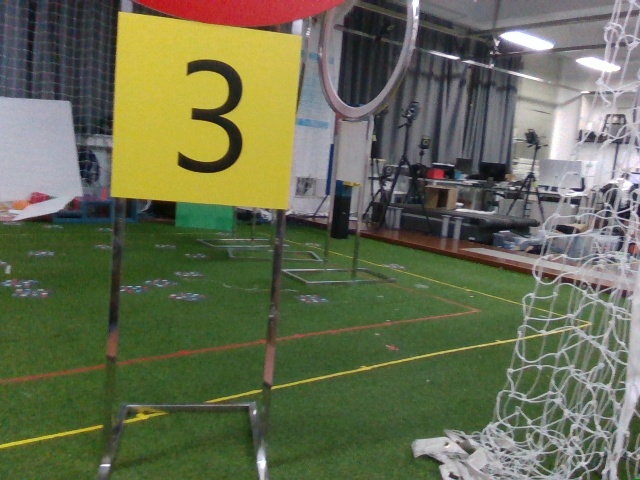target: (121, 36, 284, 198)
